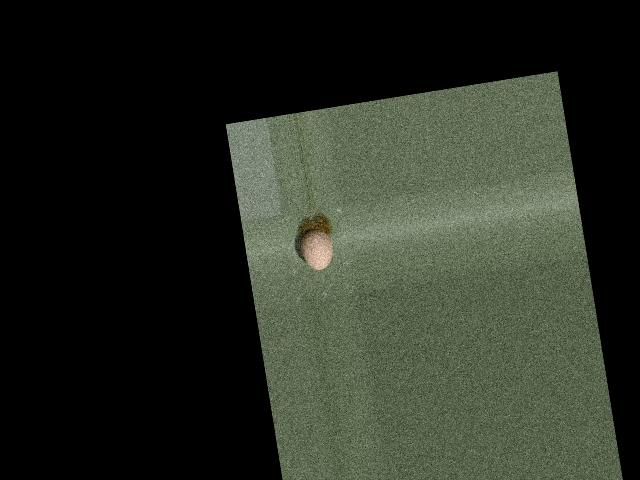egg: (298, 227, 335, 272)
